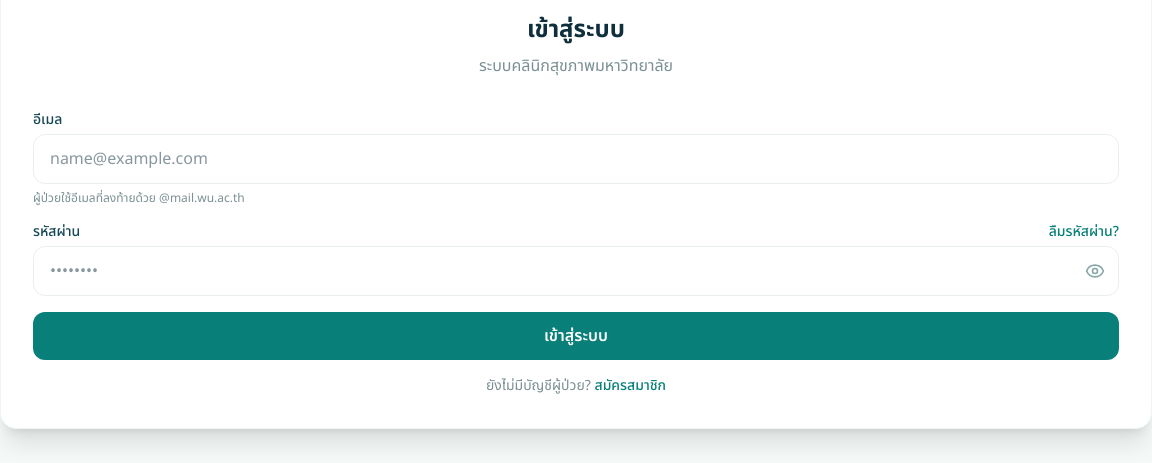
Test: LoginPage › shows loading animation and redirect state during successful login
Type "patient@mail.wu.ac.th" into the field labelled "อีเมล" at {"x": 576, "y": 159}, box [33,134,1119,184]
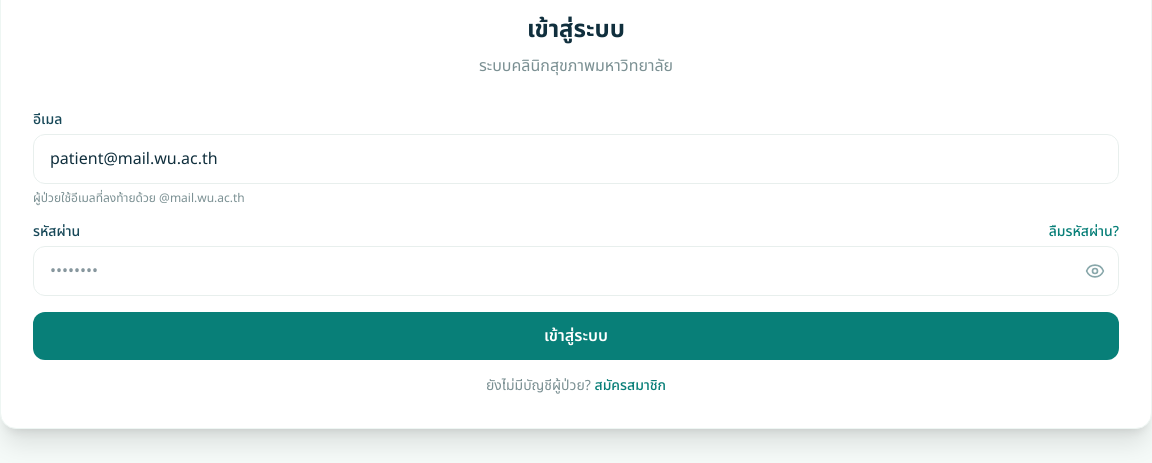
Type "password123" into the password field with placeholder "••••••••" at {"x": 576, "y": 271}, box [33,246,1119,296]
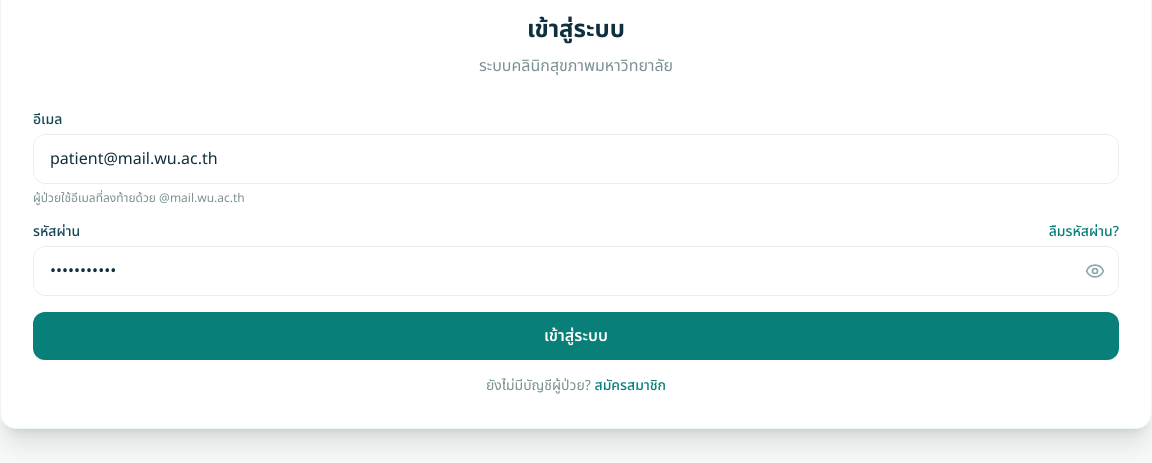
Click the button "เข้าสู่ระบบ" at {"x": 576, "y": 336}, box [33,312,1119,360]
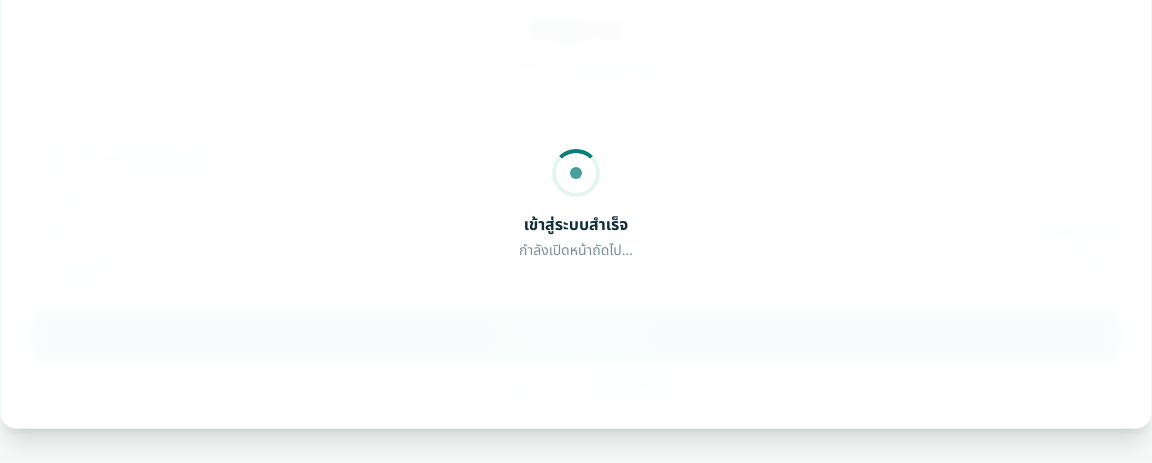
Expected: the heading "เข้าสู่ระบบสำเร็จ" is shown, [524,213,628,237]
Expected: the text "กำลังเปิดหน้าถัดไป…" is shown, [519,241,633,261]
